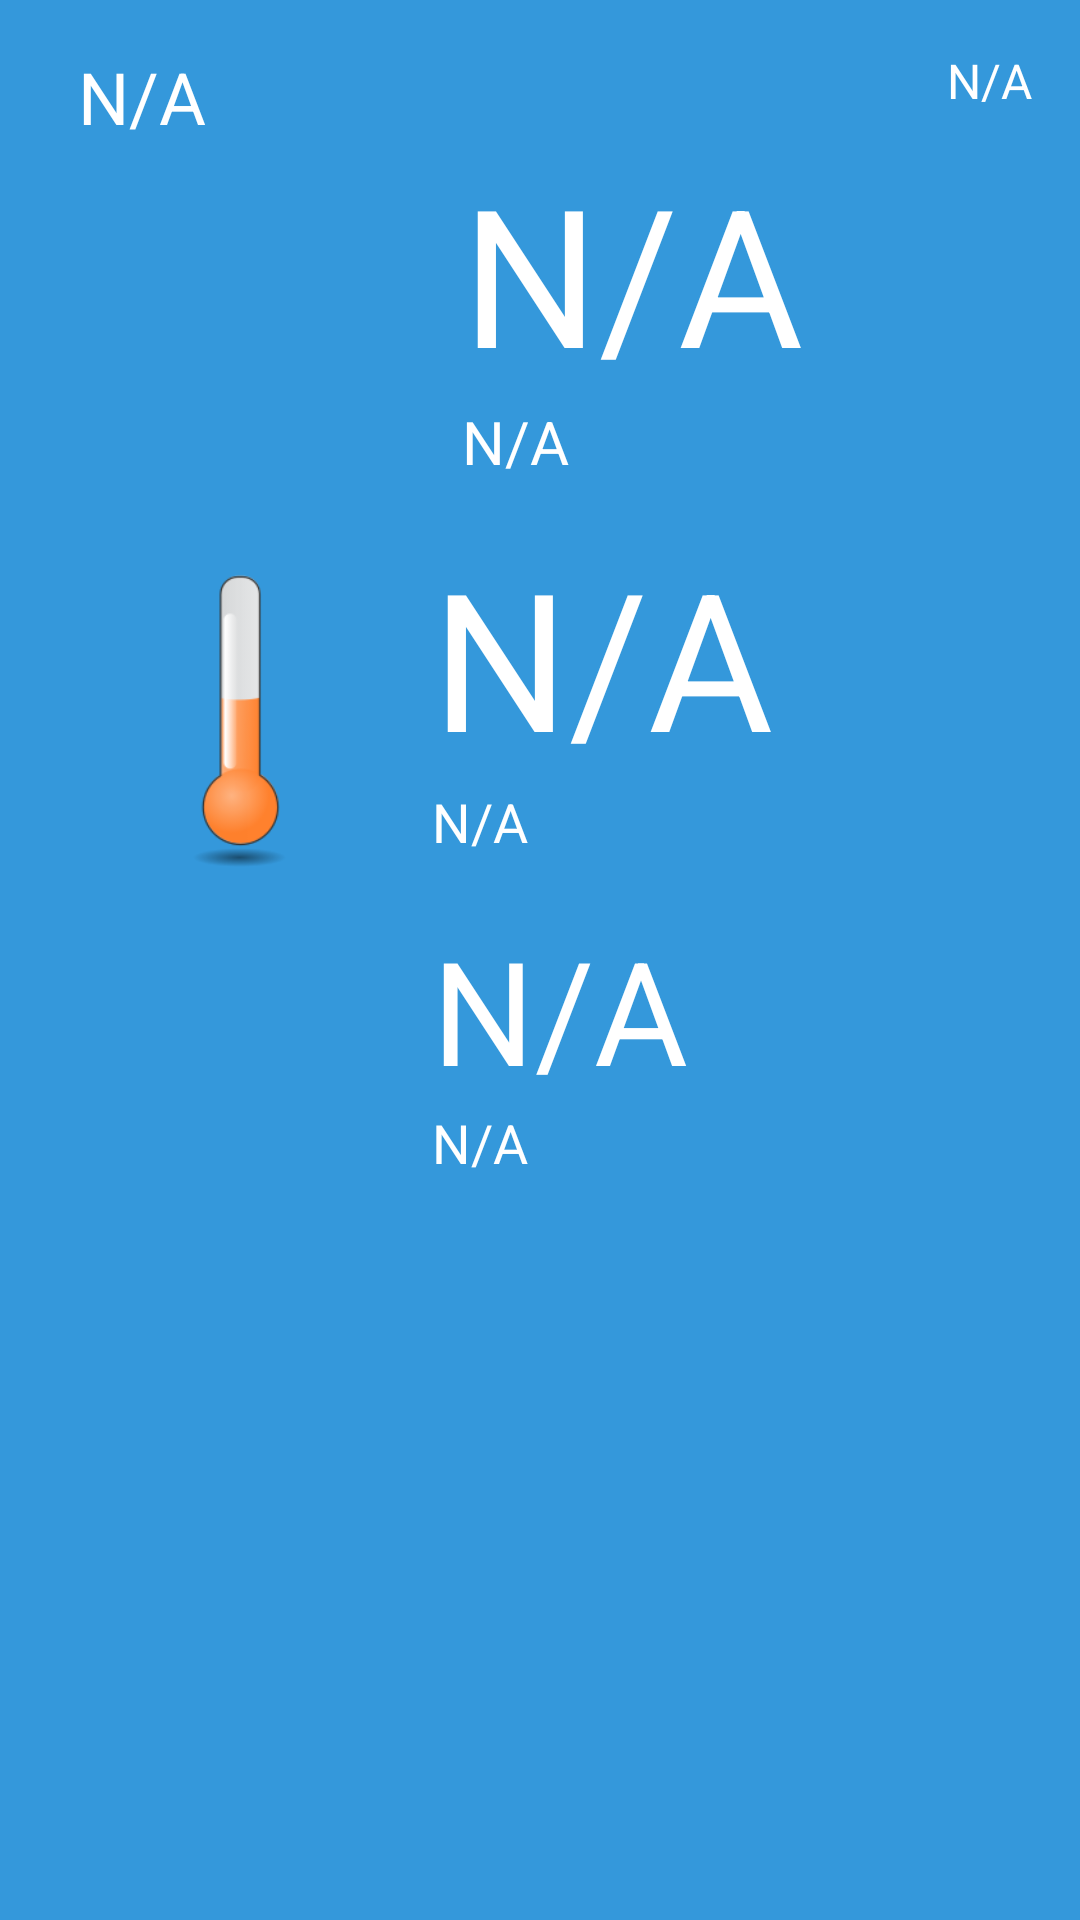

Icons on this 1080px x 1920px Android screen, each with its box as (x1, y1, x2, y2):
thermometer: (201, 575, 279, 865)
